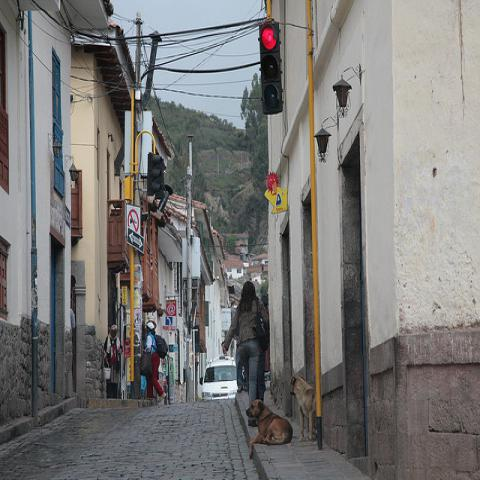car: (200, 356, 237, 401)
